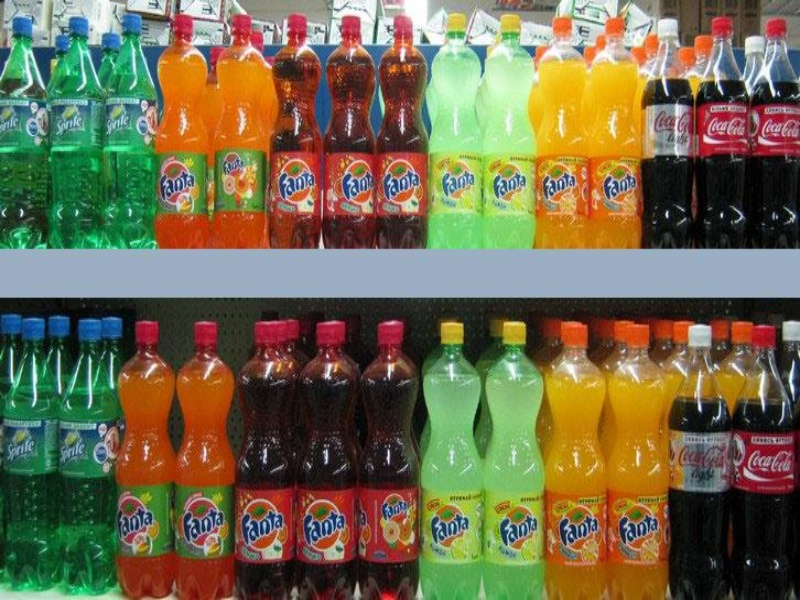lemonade: (357, 317, 427, 600), (294, 321, 364, 600), (667, 323, 735, 600), (419, 316, 484, 600), (540, 316, 604, 600), (481, 318, 545, 600), (733, 323, 798, 600), (175, 318, 239, 598), (601, 320, 665, 600), (236, 320, 299, 600), (3, 312, 64, 595), (687, 15, 752, 249), (206, 17, 270, 248), (580, 22, 645, 249), (122, 322, 175, 596), (425, 17, 485, 251), (62, 315, 112, 595), (45, 15, 104, 252), (530, 20, 590, 251), (374, 19, 431, 250), (639, 19, 695, 250), (324, 18, 378, 249), (272, 15, 325, 249), (157, 15, 208, 250), (482, 18, 533, 251), (5, 8, 54, 250), (107, 18, 156, 252), (751, 20, 799, 253)
